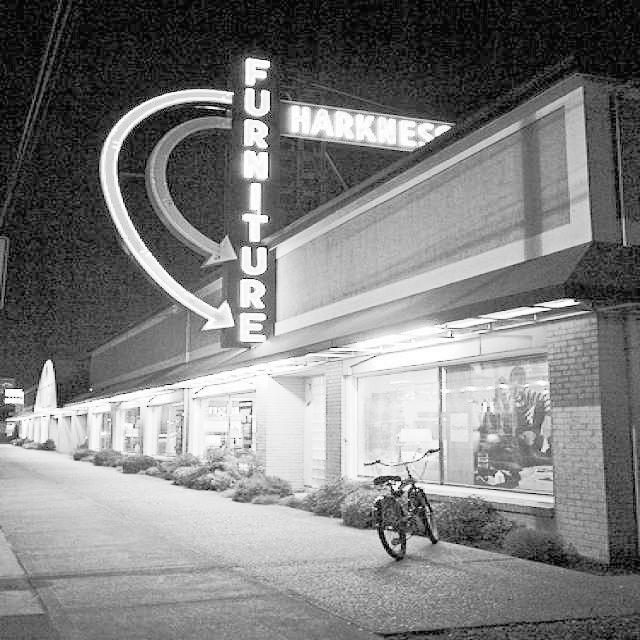Bicycle: (356, 457, 489, 558)
